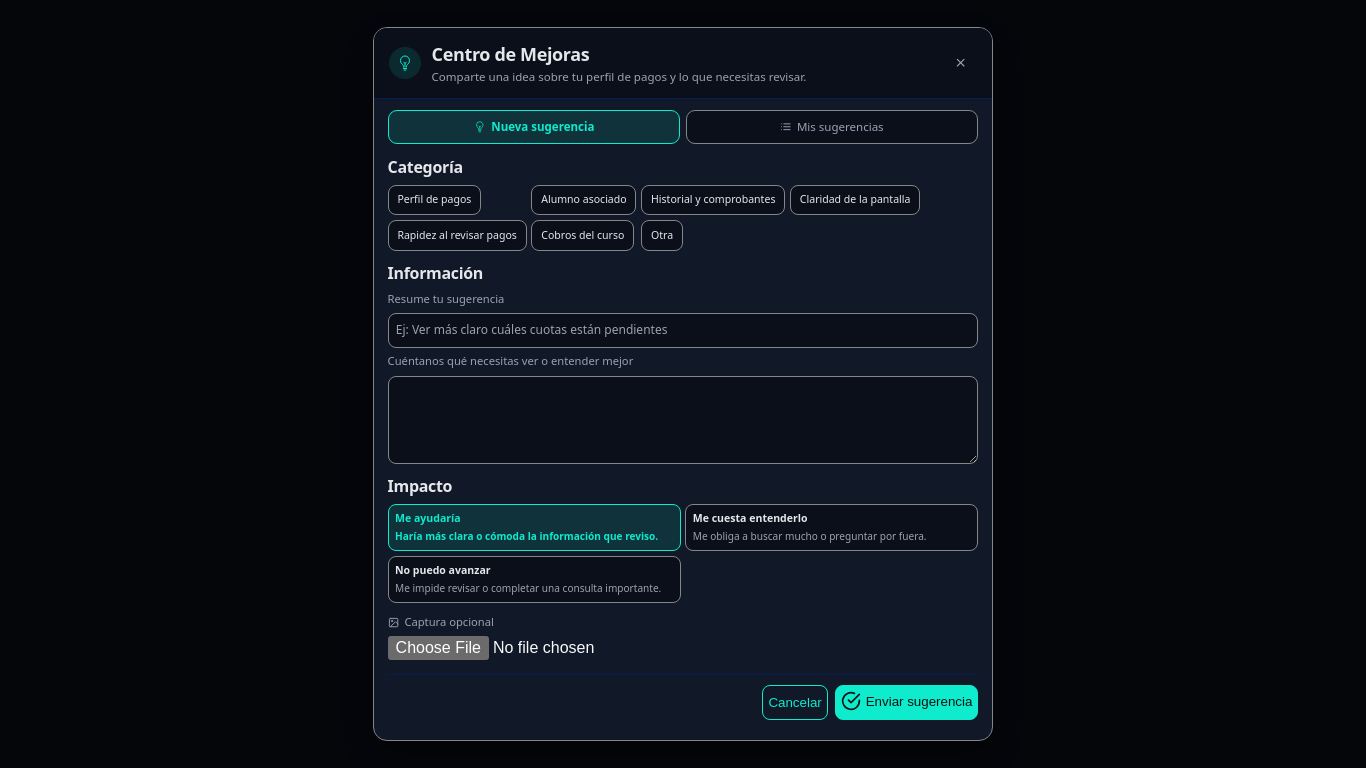
Test case: ImprovementCenter › lista Mis sugerencias y permite abrir el detalle
Click the button "Mis sugerencias" at (832, 127), box [686,110,978,144]
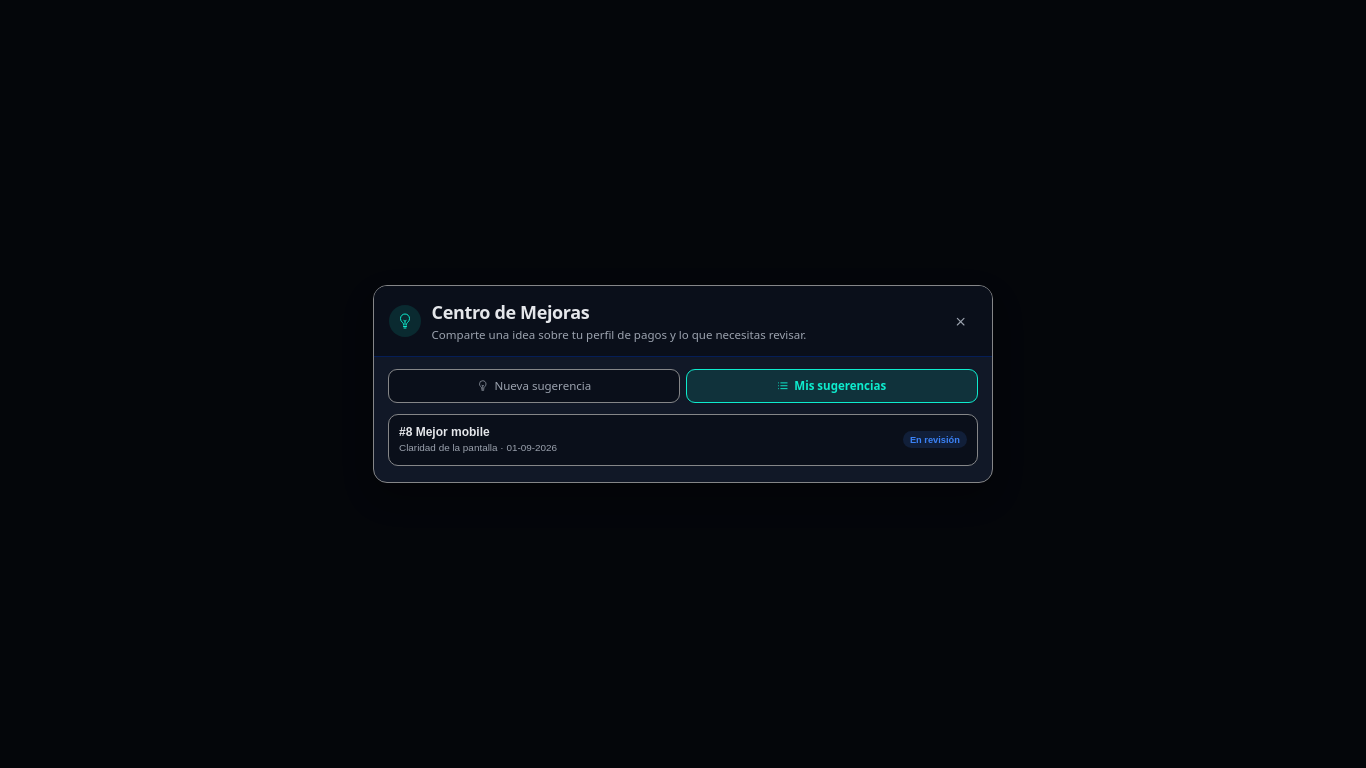
Check: the text "#8 Mejor mobile" is shown
Click the text "#8 Mejor mobile" at (444, 432), box [399,425,490,439]
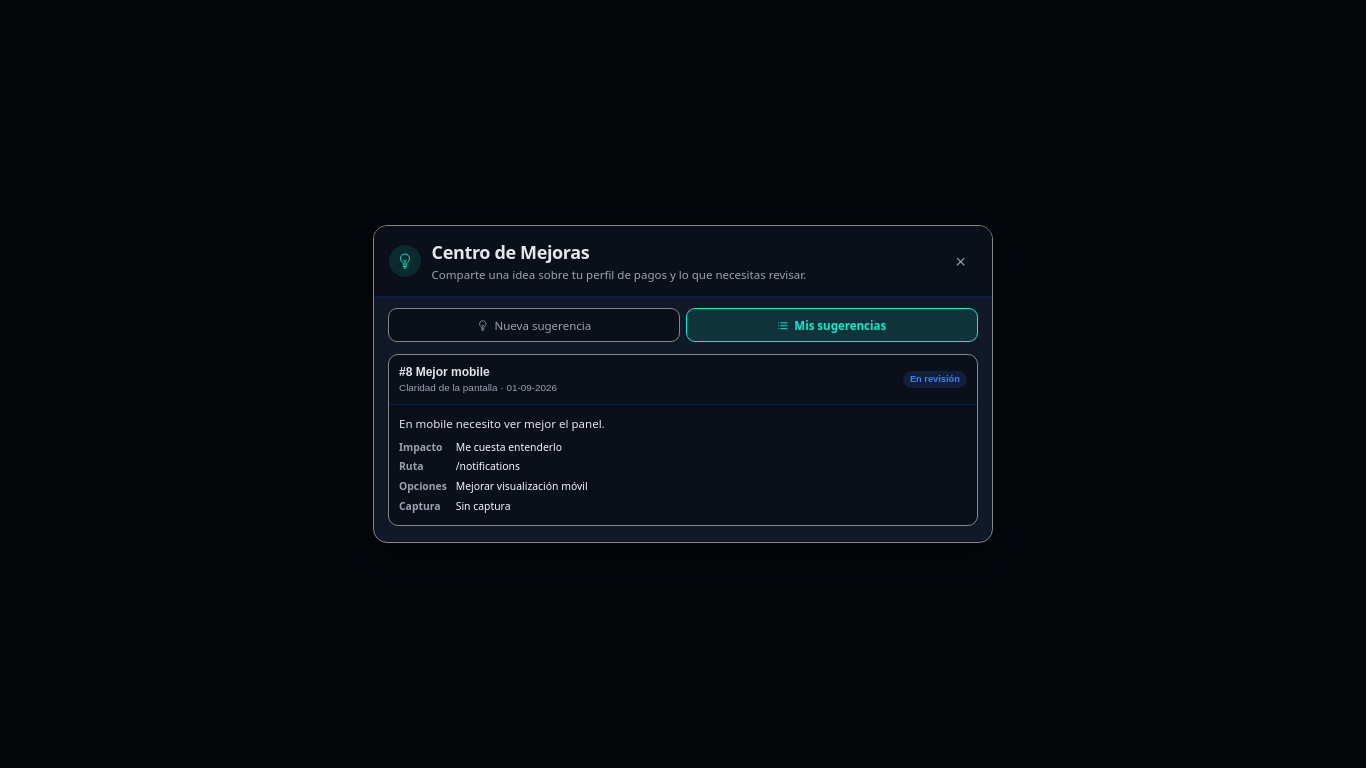
Check: the text "En revisión" is shown, box [903,371,967,388]
Check: the text "En mobile necesito ver mejor el panel." is shown, box [399,416,605,431]
